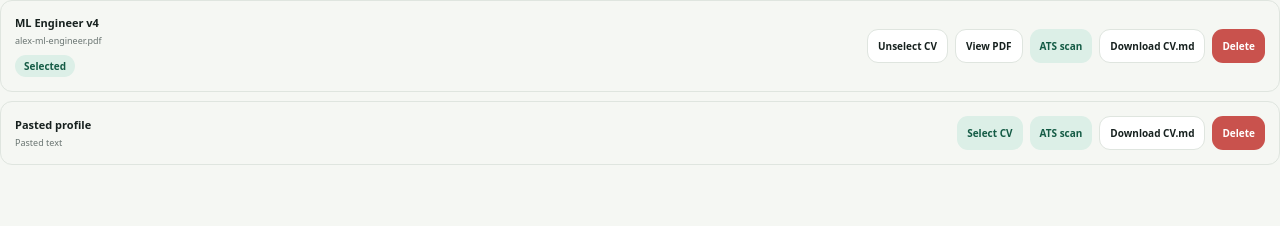
Test: CvLibrary › keeps the default selected when unselection fails
Click the button with aria-label "Unselect CV for ML Engineer v4" at x=907, y=46, box top-left (867, 29), bottom-right (948, 63)
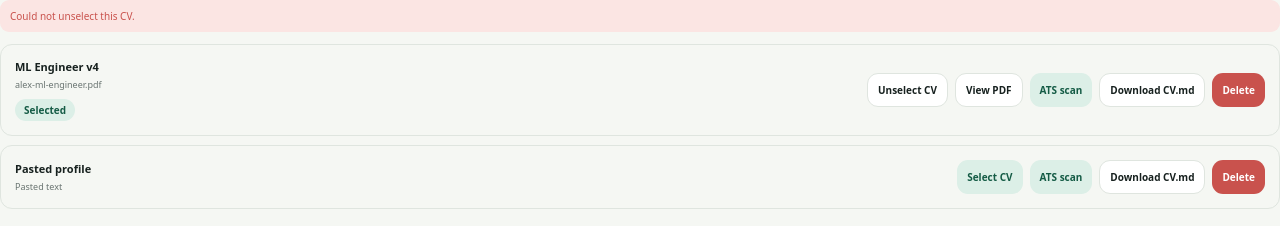
Expected: the text "Selected" is shown, top-left (15, 99), bottom-right (75, 121)
Expected: the message reads "Could not unselect this CV.", top-left (10, 9), bottom-right (135, 23)
